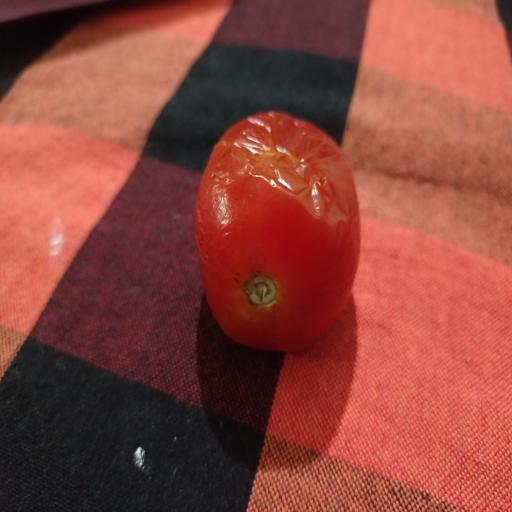spoiled: (195, 112, 360, 351)
